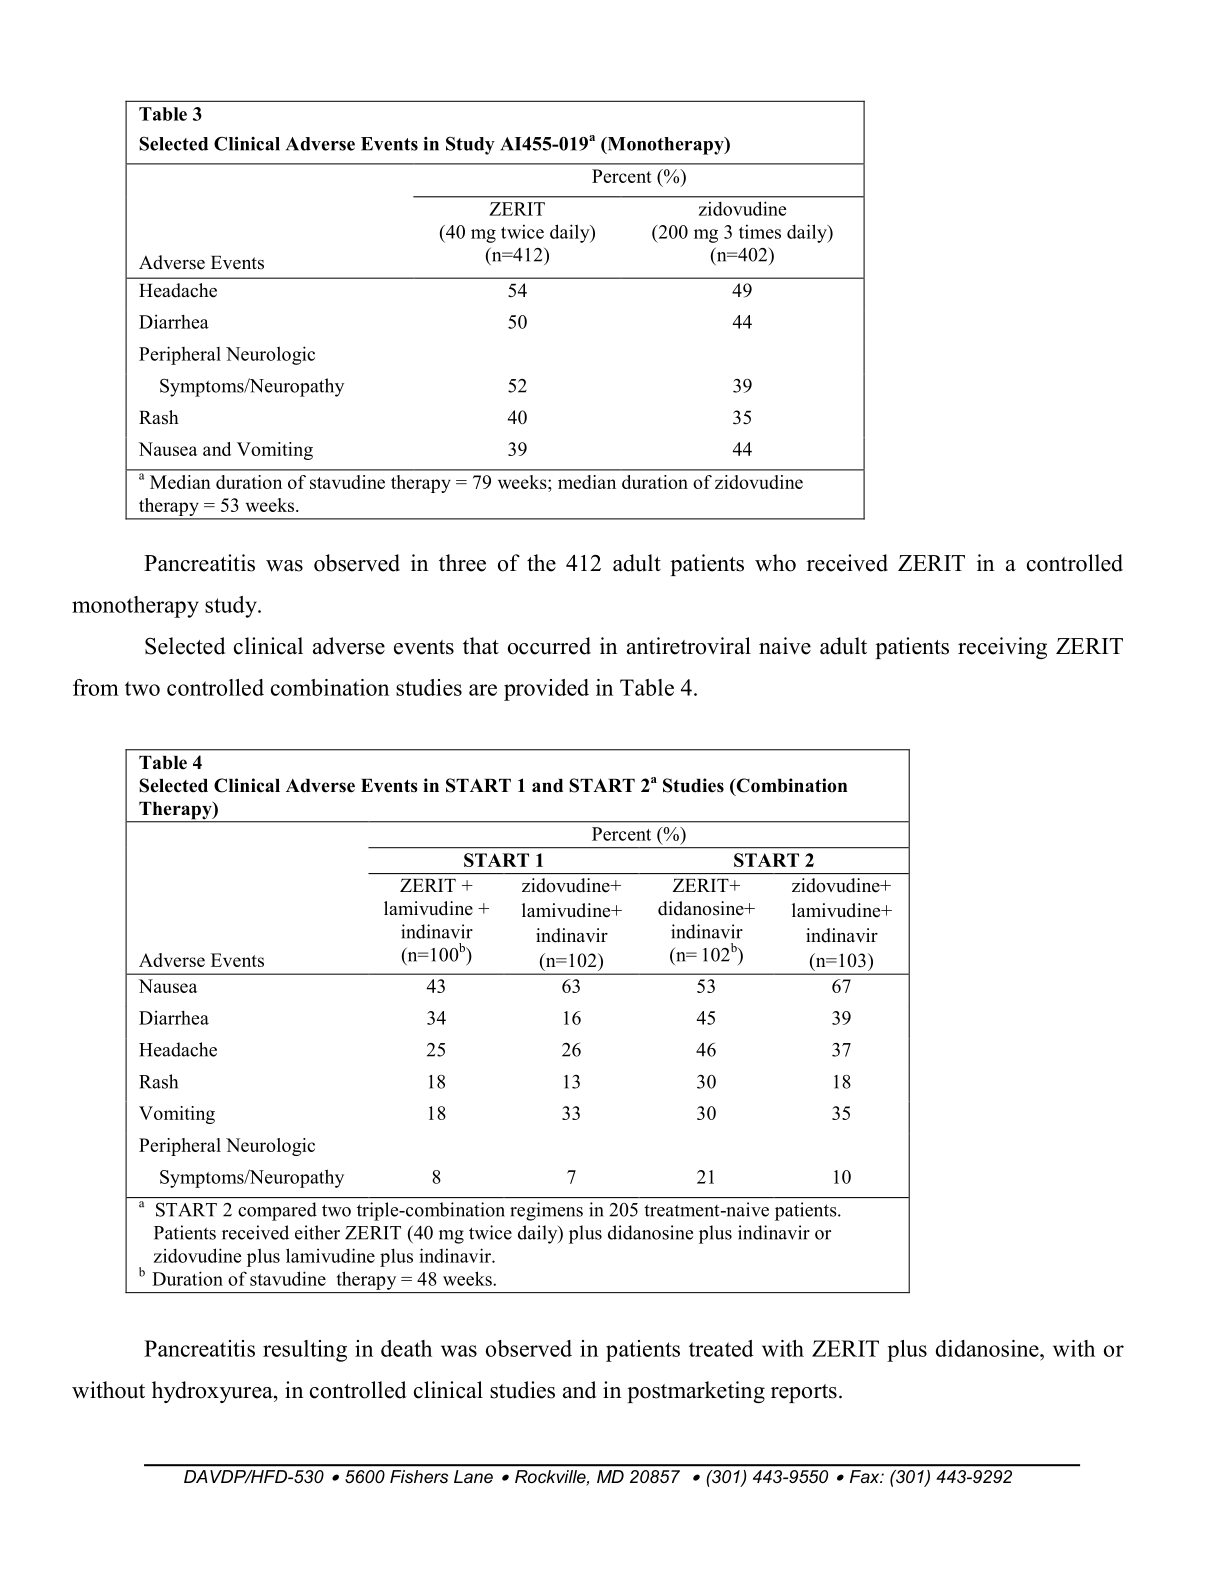partial_lined_merged_cells: (125, 747, 910, 1295), (125, 99, 867, 521)
